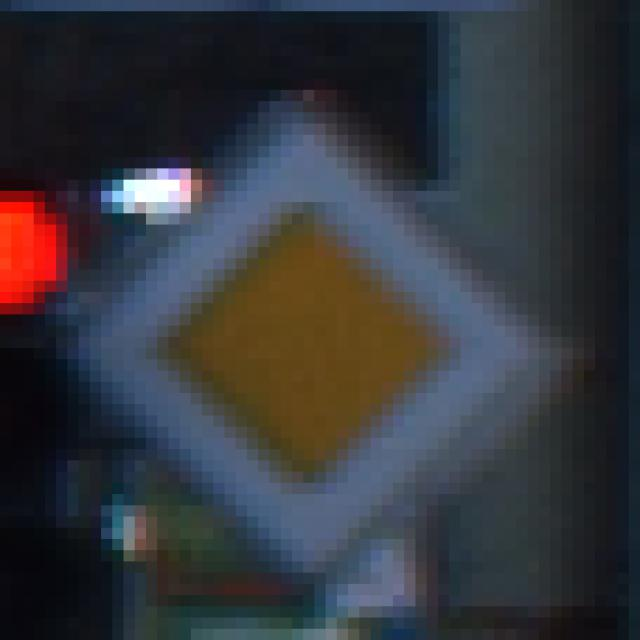Main Road: (68, 57, 585, 585)
